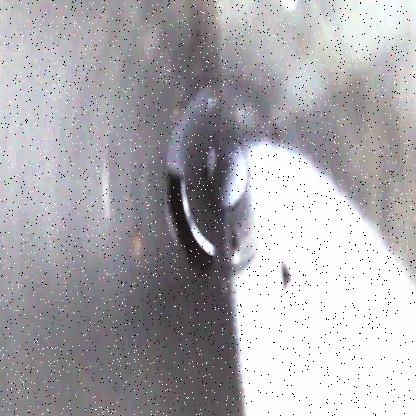Crack2: (160, 165, 218, 279)
